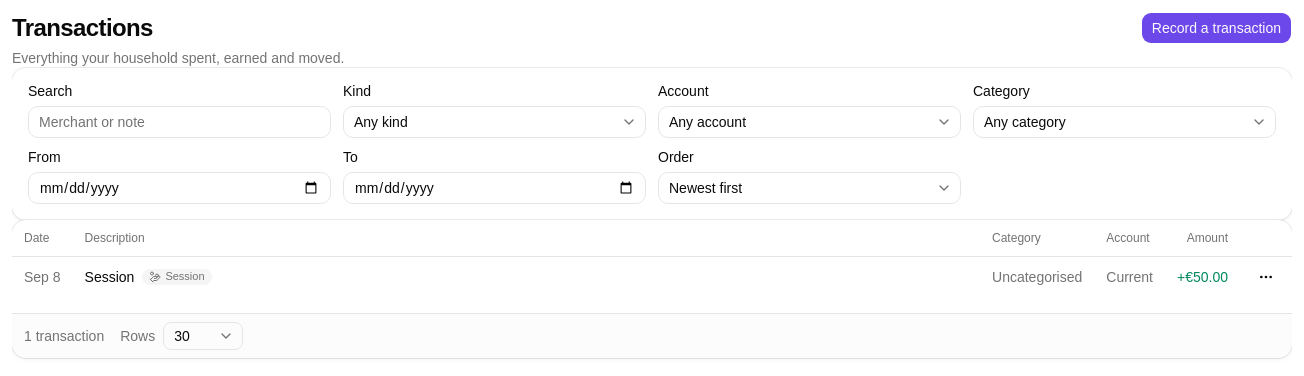
it: income a session generated › points at the one place it can be changed
This screenshot has width=1304, height=376.
Click the button named "Manage transaction": click(1266, 276) [1252, 262, 1280, 290]
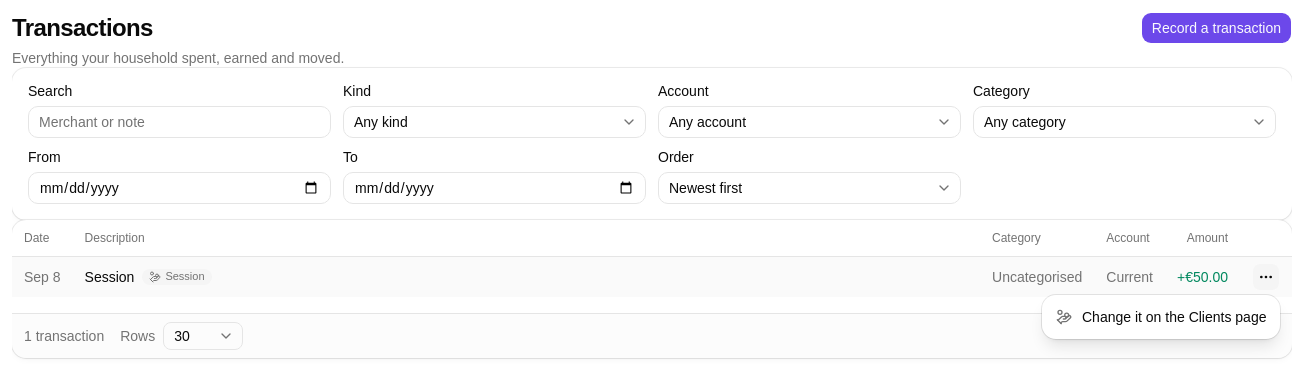
Expected: the menu item "Change it on the Clients page" is shown, [1056, 309, 1266, 325]
